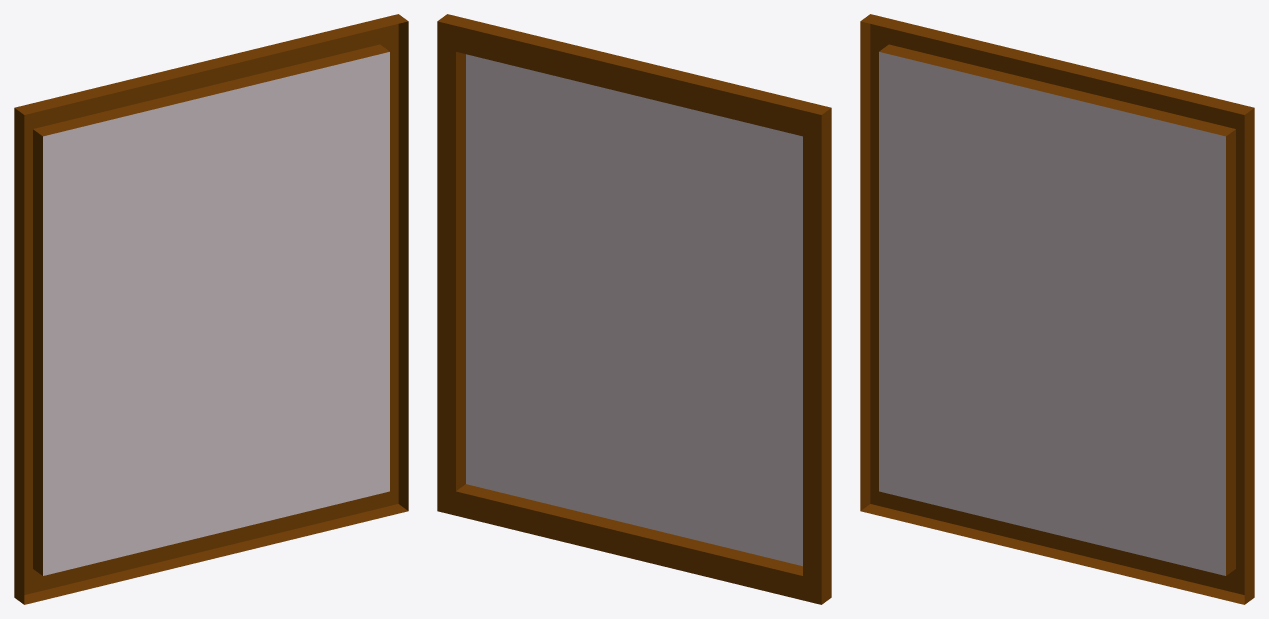
Rendered from Quadro.fbx.
3 renders of one model, left to right at view 1: azimuth 30°, elevation 25°; view 2: azimuth 150°, elevation 25°; view 3: azimuth 330°, elevation 25°, orthographic.
Visible parts, largest first — view 1: Painting; view 2: Painting; view 3: Painting.
Part boxes in pixels (left/top/right/bottom): Painting: left=14, top=14, right=408, bottom=604; Painting: left=437, top=14, right=831, bottom=604; Painting: left=860, top=14, right=1254, bottom=604.
Size of the model in its own units: 131 by 160 by 5.94.
